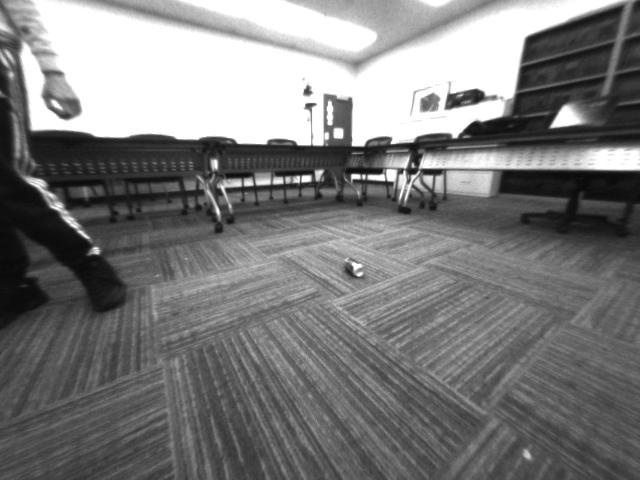can: (340, 252, 370, 281)
